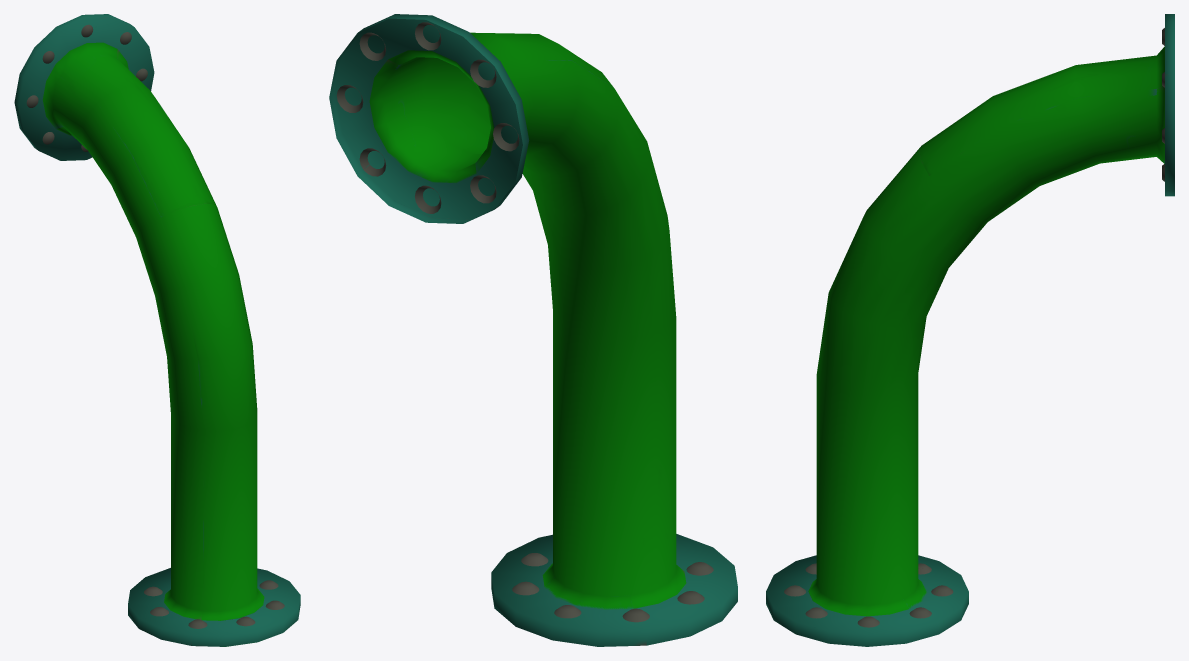
File: PipeCurve.fbx
3 renders of one model, left to right at view 1: azimuth 30°, elevation 25°; view 2: azimuth 150°, elevation 25°; view 3: azimuth 270°, elevation 25°, orthographic. The views are drawn at different scales.
Parts seen in each view (by area): view 1: PipeCurve; view 2: PipeCurve; view 3: PipeCurve.
Boxes of the visible parts, bbox=[...] form: PipeCurve: bbox=[14, 14, 300, 646]; PipeCurve: bbox=[329, 14, 737, 646]; PipeCurve: bbox=[766, 14, 1174, 646].
Bounding box in the file's own units: 160 × 506 × 322.
